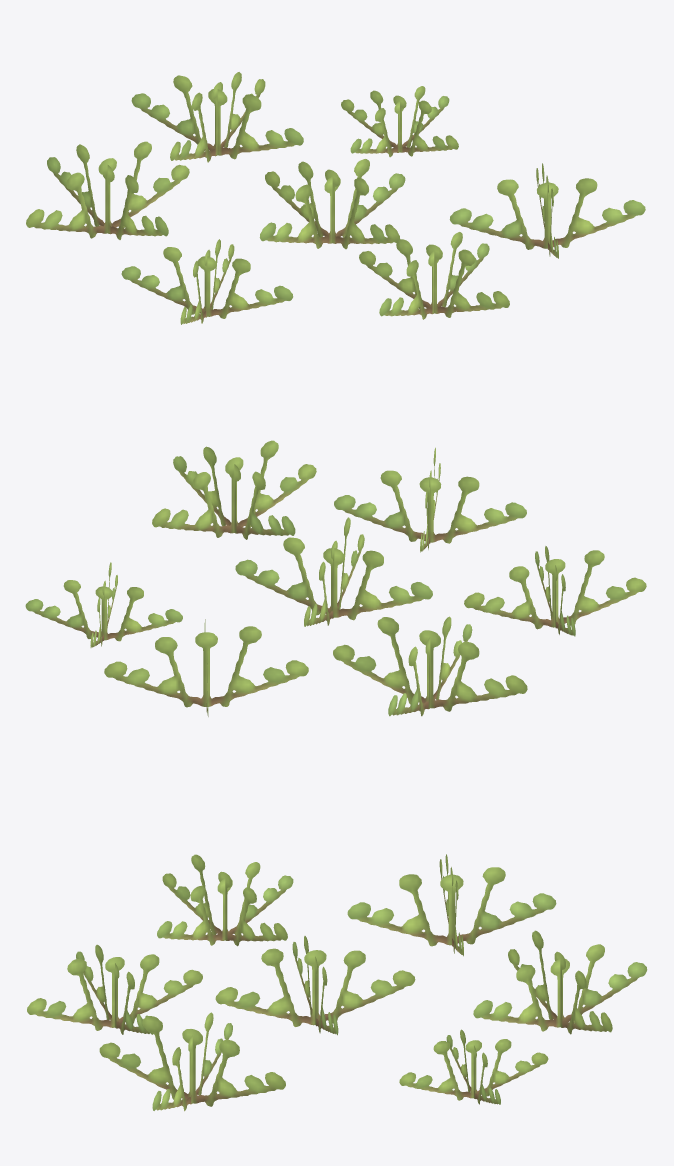
File: crop_cranberry_1.glb
3 views of the same model, one above another, from view 1: azimuth 30°, elevation 25°; view 2: azimuth 150°, elevation 25°; view 3: azimuth 270°, elevation 25° (orthographic). The views are drawn at different scales.
Parts seen in each view (by area): view 1: crop_cranberry_1; view 2: crop_cranberry_1; view 3: crop_cranberry_1.
Boxes of the visible parts, box(x1,y1,x2,y2) form: crop_cranberry_1: box(26, 72, 645, 324); crop_cranberry_1: box(25, 440, 646, 716); crop_cranberry_1: box(27, 854, 647, 1111).
Bounding box in the file's own units: 0.6812 × 0.1367 × 0.7327.
Materials: 1 (1 with a texture image).
